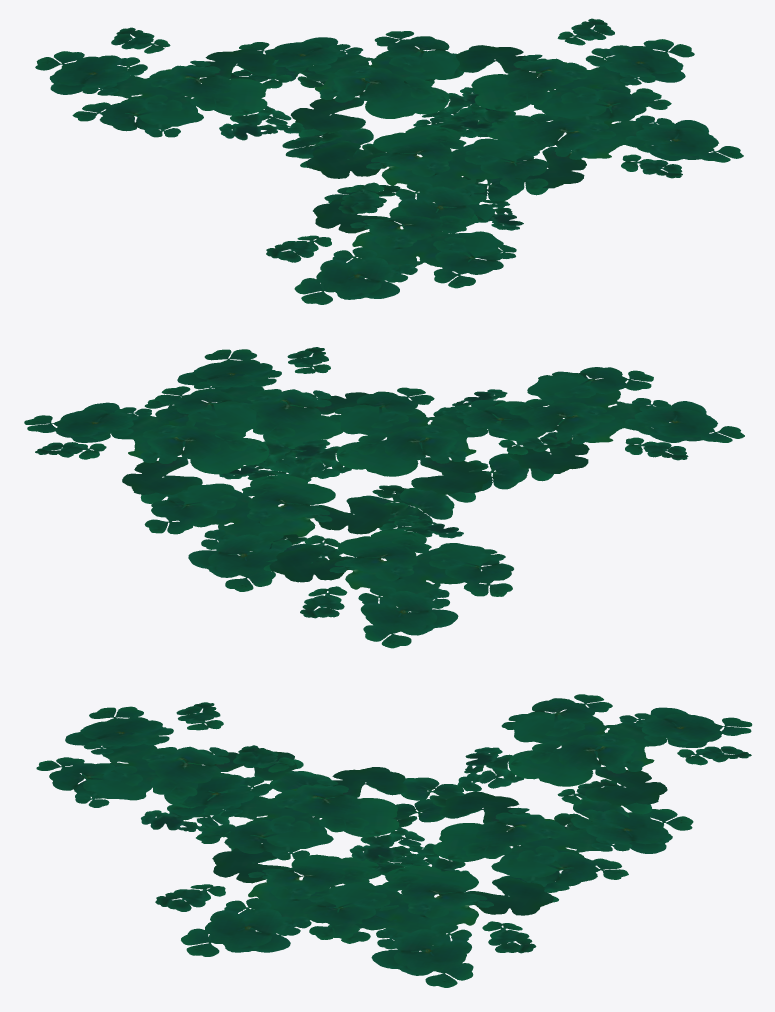
The picture shows the model from 3 angles, top to bottom: view 1: azimuth 30°, elevation 25°; view 2: azimuth 150°, elevation 25°; view 3: azimuth 270°, elevation 25°; orthographic projection. The views are drawn at different scales.
Parts seen in each view (by area): view 1: SM_BM_Woodlands_Sorrel_01_E_LOD0; view 2: SM_BM_Woodlands_Sorrel_01_E_LOD0; view 3: SM_BM_Woodlands_Sorrel_01_E_LOD0.
Boxes of the visible parts, x1,y1,x2,y2 form: SM_BM_Woodlands_Sorrel_01_E_LOD0: [35, 18, 743, 304]; SM_BM_Woodlands_Sorrel_01_E_LOD0: [24, 347, 744, 648]; SM_BM_Woodlands_Sorrel_01_E_LOD0: [36, 694, 752, 987].
Size of the model in its own units: 0.7674 by 0.0438 by 0.8227.
Materials: 1 (1 with a texture image).
